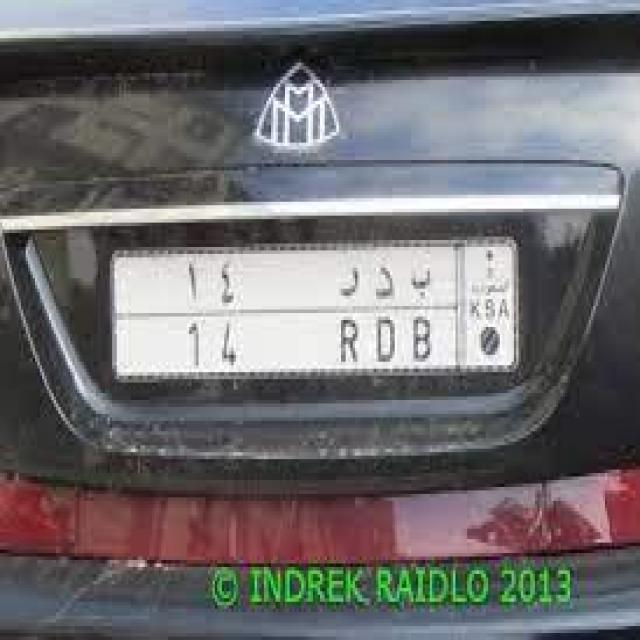license_plate: (88, 212, 526, 397)
